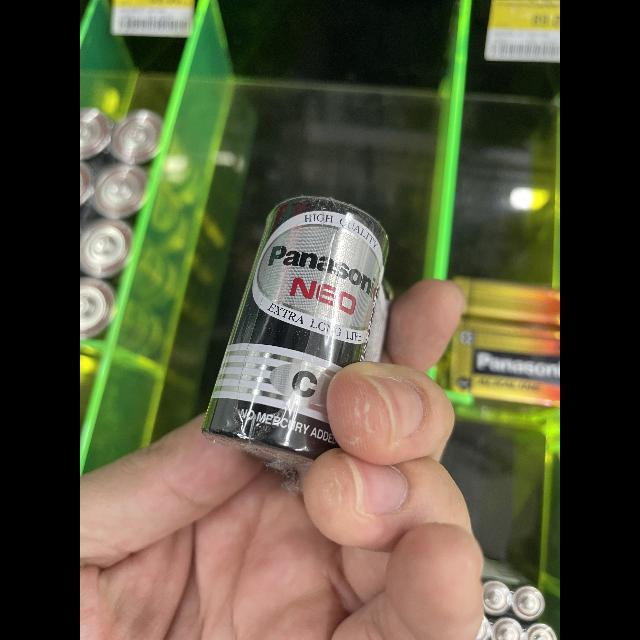battery: (172, 191, 406, 483), (80, 88, 204, 376), (446, 247, 560, 425), (456, 550, 558, 640)
